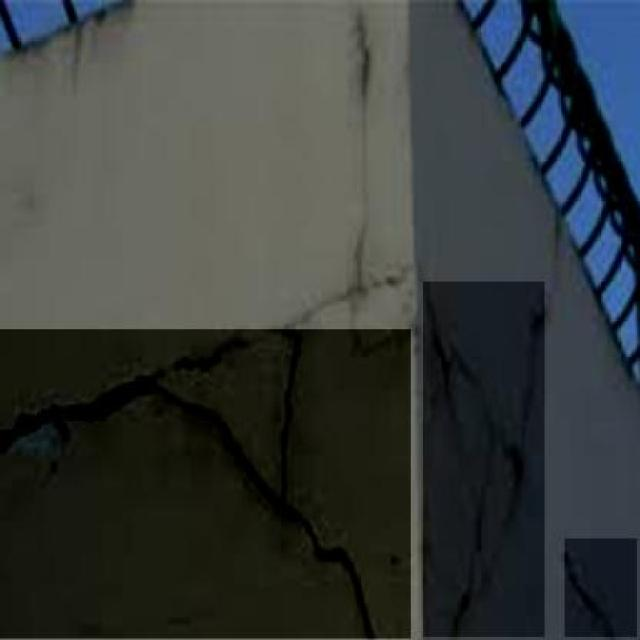Crack: (414, 269, 542, 628), (7, 322, 260, 472), (264, 442, 398, 638), (266, 273, 411, 437), (328, 4, 387, 269)
